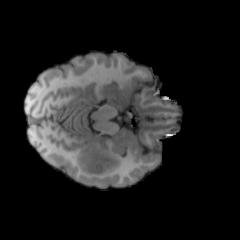glioma: (76, 142, 122, 175)
